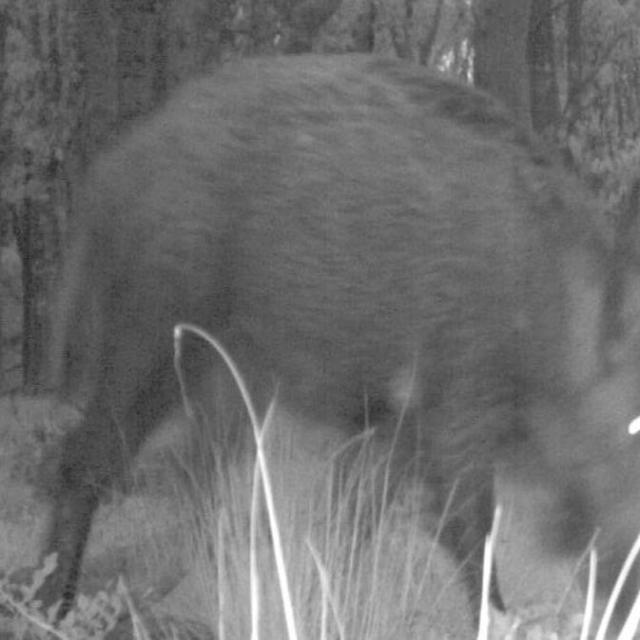pig: (29, 32, 640, 585)
